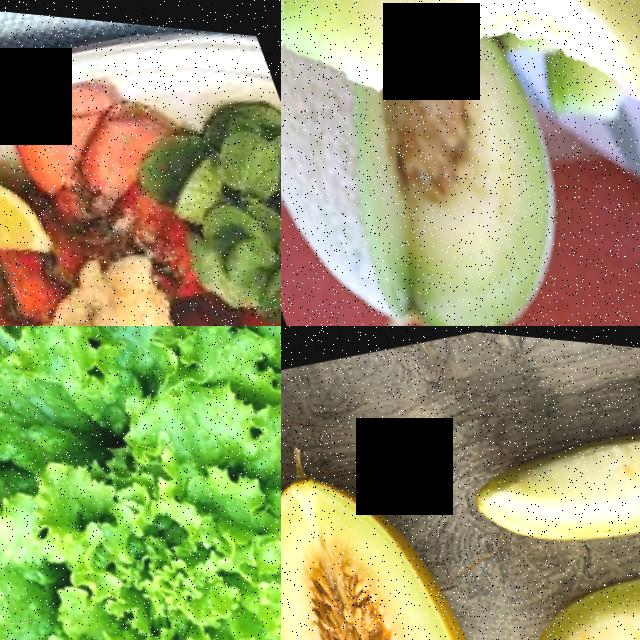lemon: (0, 135, 50, 282)
lettuce: (0, 326, 281, 640)
lobster tails: (0, 64, 221, 326)
melon: (281, 38, 602, 326), (281, 435, 559, 640), (442, 368, 640, 583), (281, 0, 558, 140), (490, 509, 640, 640)
